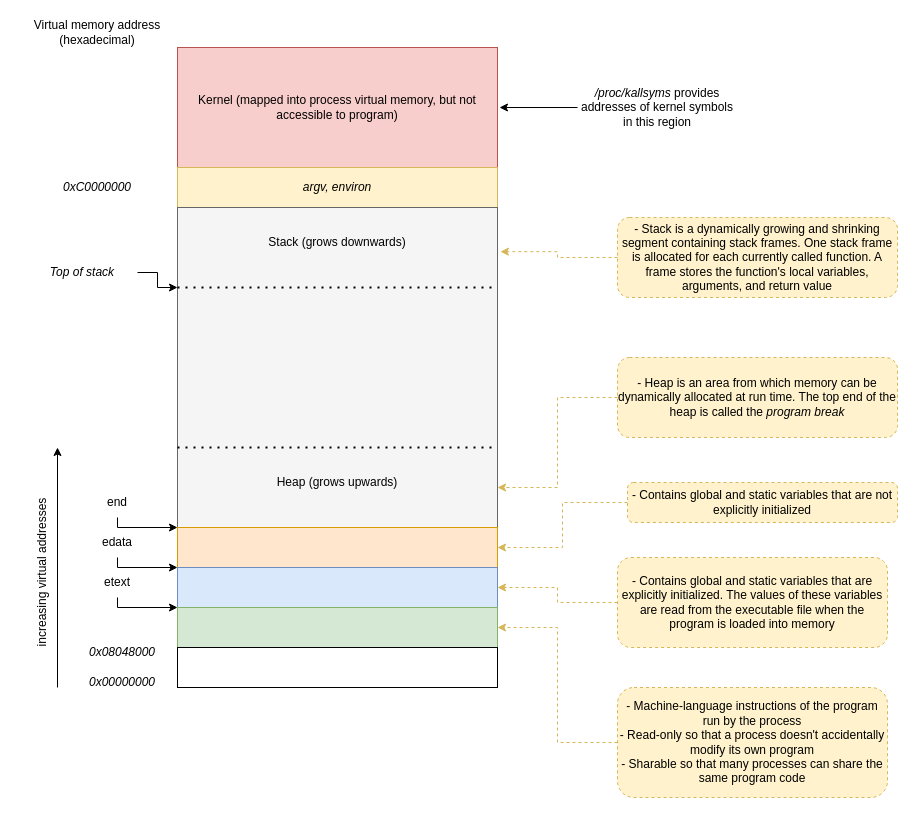
Some shapes in this 915 by 815 pixel diagram are drawn without their labels. The centre of each missing label's shape, as x and y in pixels:
"Initialized data" belongs at (x=337, y=587).
"Text (program code)" belongs at (x=337, y=627).
"Uninitialized data (bss)" belongs at (x=337, y=547).
